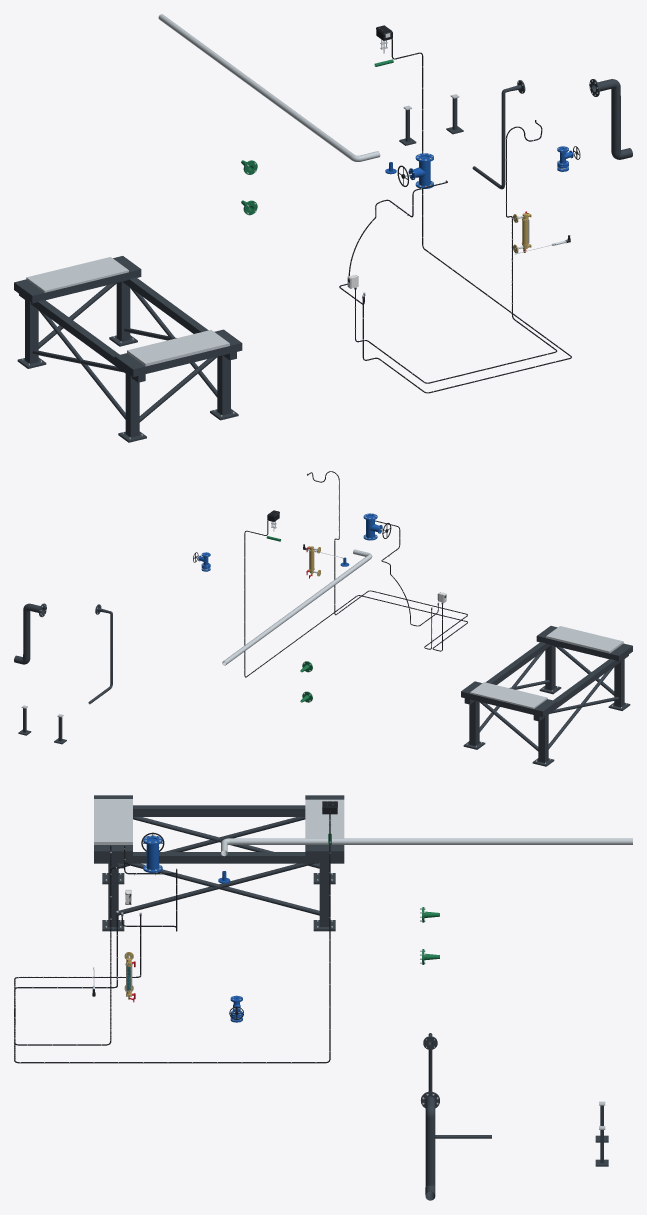
The model's file is s4000-4-BUB6zFq_.glb.
The picture shows the model from 3 angles, top to bottom: view 1: azimuth 30°, elevation 25°; view 2: azimuth 150°, elevation 25°; view 3: azimuth 270°, elevation 25°; orthographic projection. The views are drawn at different scales.
Visible parts, largest first — view 1: deaerator_support / dark, deaerator_support / steel, safety_vent_2 / steel, mod_direct_drive_cable / black, bdv_water_drain / dark, wiring_pressure_transmitter / black, bottom_to_bdv / dark, steam_manual / blue; view 2: deaerator_support / dark, deaerator_support / steel, safety_vent_2 / steel, mod_direct_drive_cable / black, bdv_water_drain / dark, wiring_pressure_transmitter / black; view 3: deaerator_support / dark, deaerator_support / steel, safety_vent_2 / steel, mod_direct_drive_cable / black, bdv_water_drain / dark, wiring_pressure_transmitter / black, bottom_to_bdv / dark.
Boxes of the visible parts, x1,y1,x2,y2 form: deaerator_support / dark: [14, 256, 242, 442]; deaerator_support / steel: [22, 257, 234, 439]; safety_vent_2 / steel: [158, 14, 380, 161]; mod_direct_drive_cable / black: [362, 31, 571, 393]; bdv_water_drain / dark: [589, 79, 632, 159]; wiring_pressure_transmitter / black: [355, 120, 557, 383]; bottom_to_bdv / dark: [472, 80, 525, 189]; steam_manual / blue: [408, 153, 433, 188]; deaerator_support / dark: [461, 626, 632, 766]; deaerator_support / steel: [466, 626, 626, 763]; safety_vent_2 / steel: [222, 549, 372, 665]; mod_direct_drive_cable / black: [244, 515, 467, 677]; bdv_water_drain / dark: [14, 603, 46, 664]; wiring_pressure_transmitter / black: [307, 471, 467, 649]; deaerator_support / dark: [94, 795, 344, 931]; deaerator_support / steel: [94, 799, 344, 927]; safety_vent_2 / steel: [221, 838, 632, 856]; mod_direct_drive_cable / black: [14, 811, 330, 1063]; bdv_water_drain / dark: [420, 1091, 439, 1200]; wiring_pressure_transmitter / black: [14, 845, 141, 1045]; bottom_to_bdv / dark: [423, 1033, 491, 1138].
Size of the model in its own units: 9.06 by 3.24 by 7.03.
